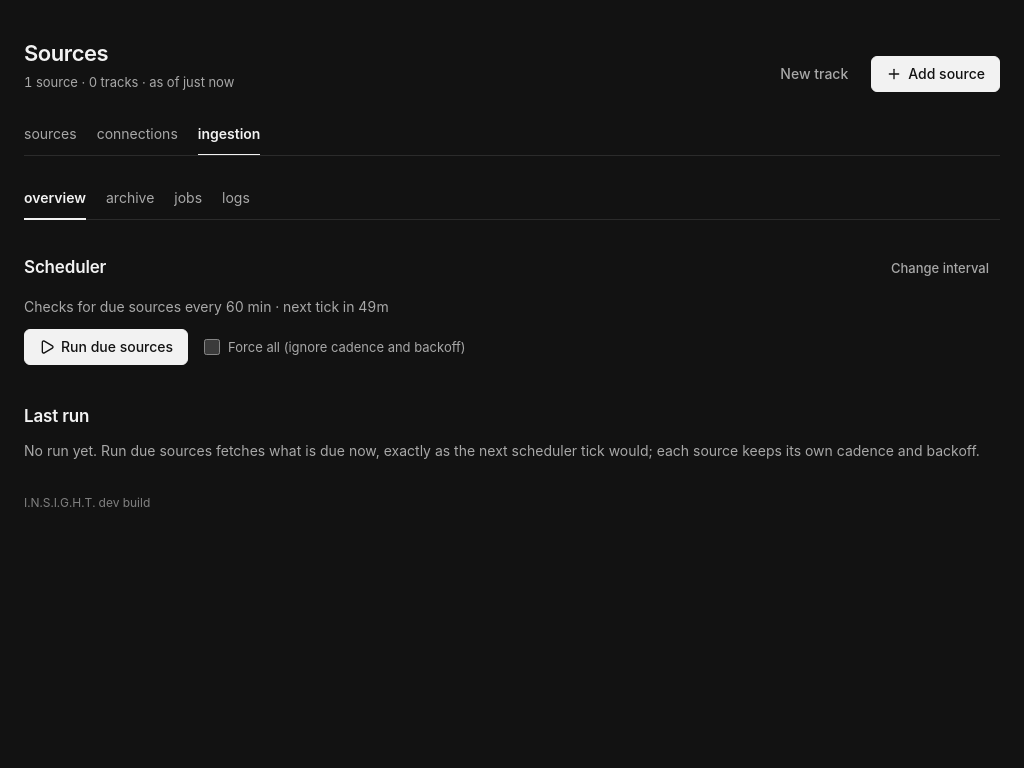
Test case: Sources → ingestion tab › the tick interval can be changed; the dialog has no briefing settings
Click the button "Change interval" at (940, 268), box [880,252,1000,284]
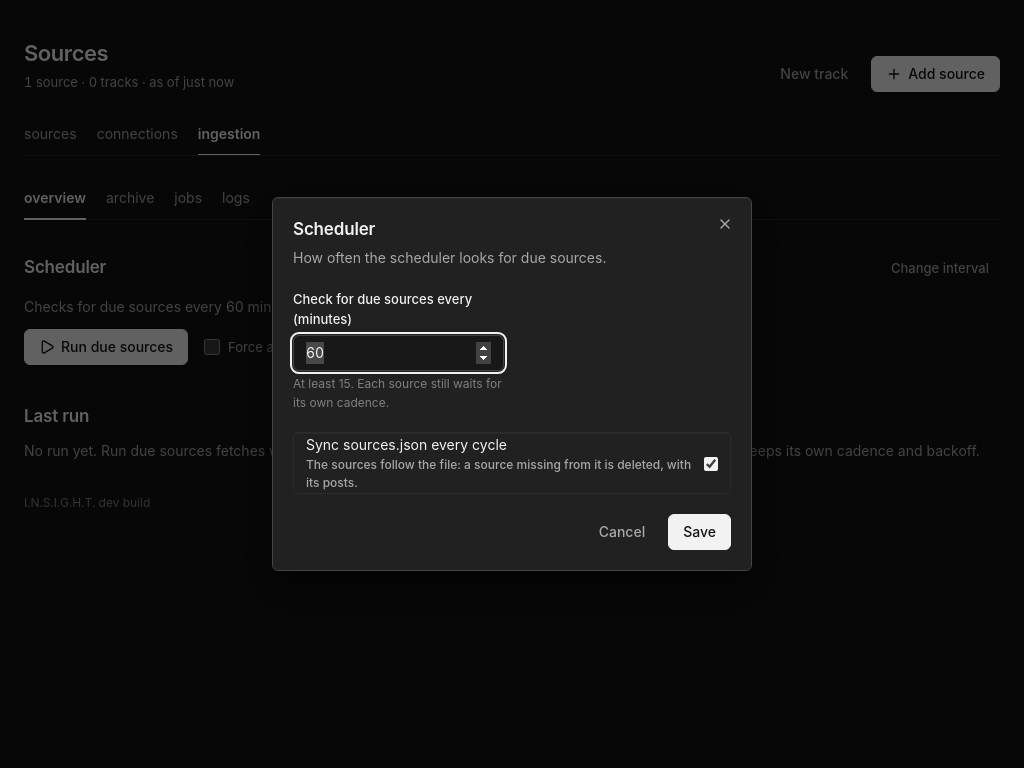
Check: the text "The sources follow the file: a source missing from it is deleted, with its posts." is shown, box [306,457,691,490]
Replace the text in the number field labelled "Check for due sources every (minutes)" with "30" at (398, 353), box [293,335,504,371]
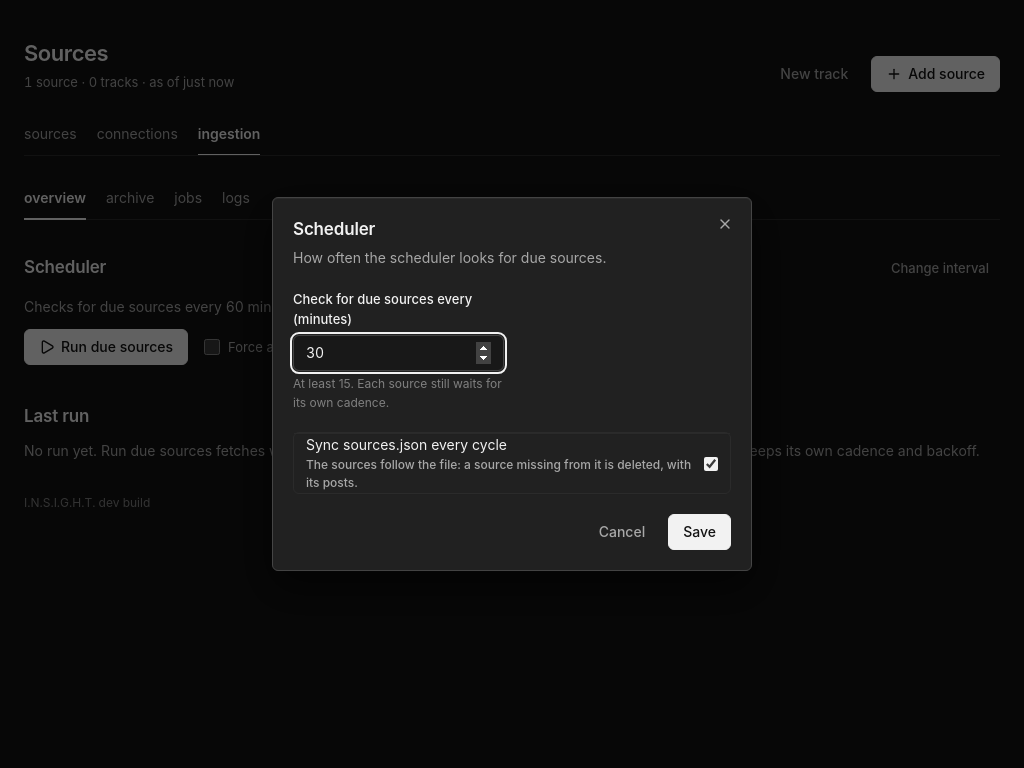
Click the button "Save" at (700, 532), box [668,514,731,550]
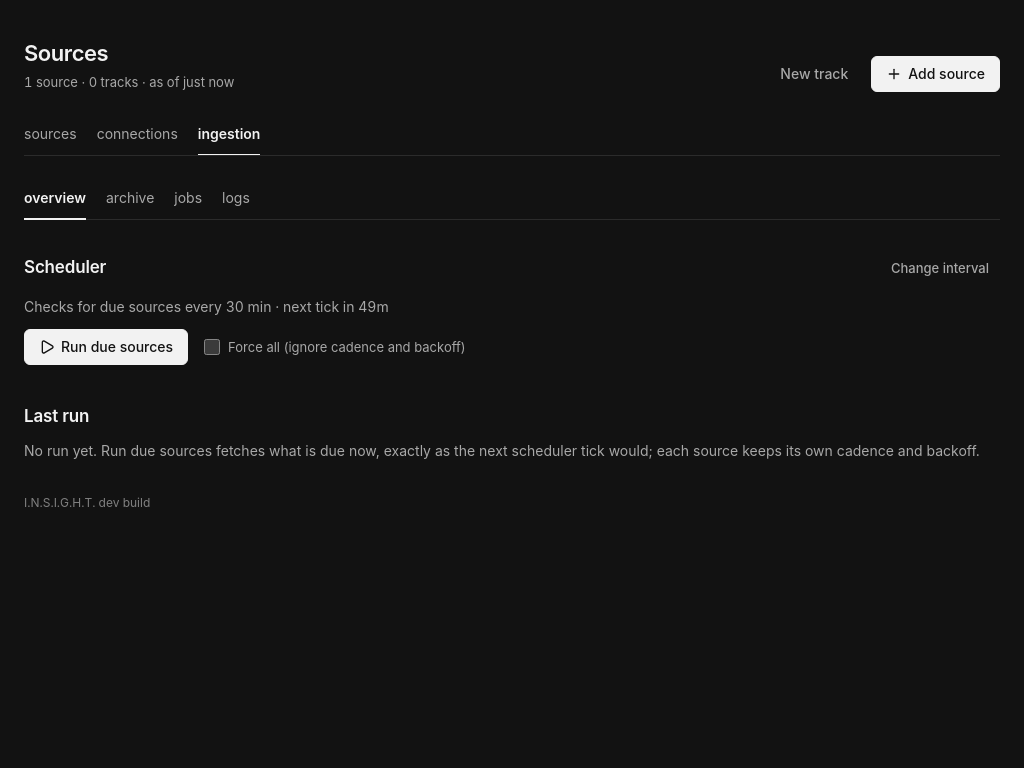
Check: the dialog is gone
